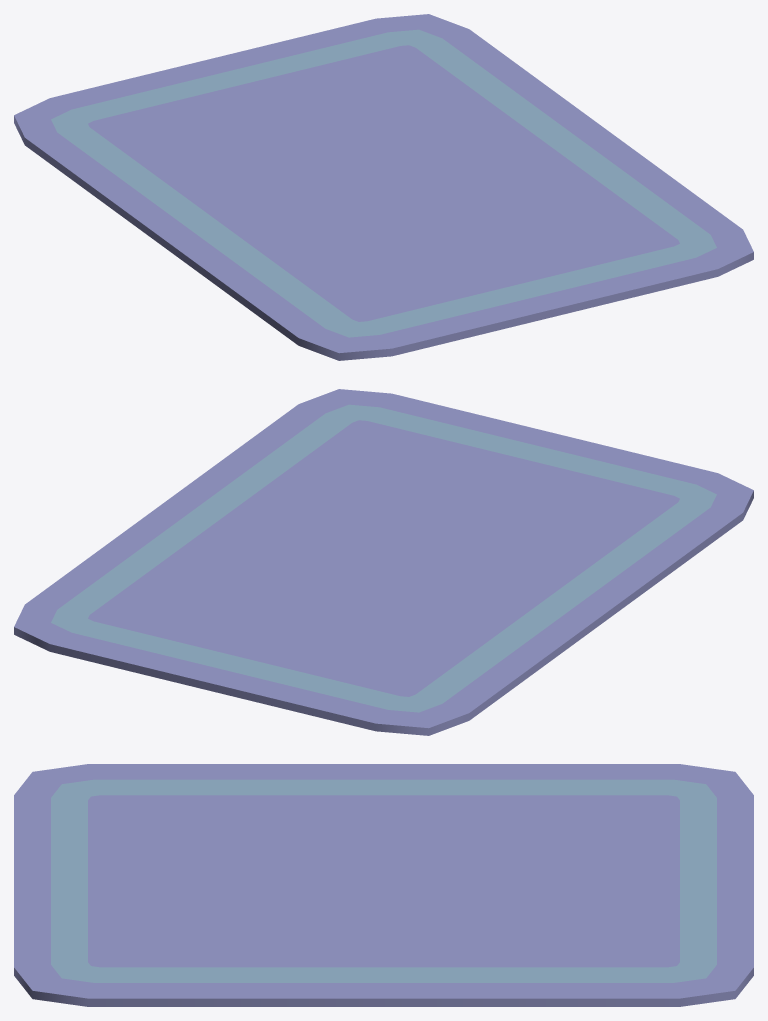
Rendered from carpet-rectangle-line (%thumbnail).glb.
The picture shows the model from 3 angles, top to bottom: view 1: azimuth 30°, elevation 25°; view 2: azimuth 150°, elevation 25°; view 3: azimuth 270°, elevation 25°; orthographic projection. The views are drawn at different scales.
Visible parts, largest first — view 1: carpet-rectangle-line (%thumbnail); view 2: carpet-rectangle-line (%thumbnail); view 3: carpet-rectangle-line (%thumbnail).
Boxes of the visible parts, <box> form: carpet-rectangle-line (%thumbnail): <box>14,14,753,360</box>; carpet-rectangle-line (%thumbnail): <box>14,389,753,735</box>; carpet-rectangle-line (%thumbnail): <box>14,764,753,1006</box>.
Size of the model in its own units: 1.5 by 0.025 by 2.
